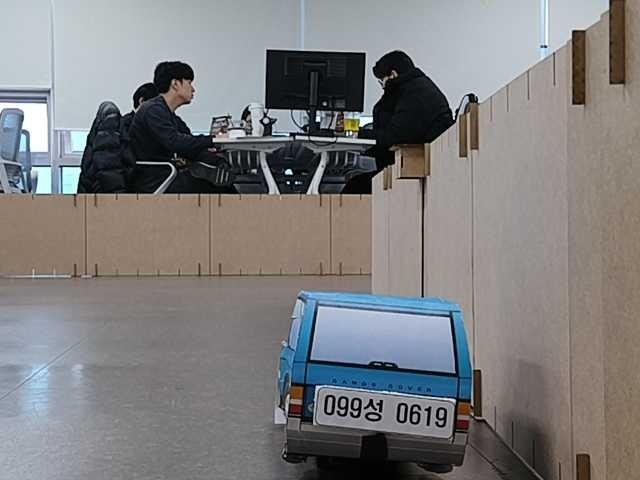car: (268, 283, 483, 477)
id: (311, 380, 454, 442)
